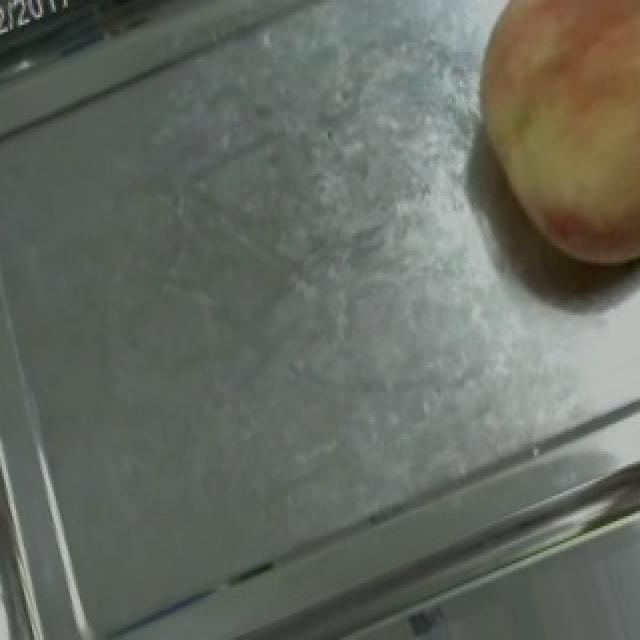Fruit: (440, 0, 640, 300)
